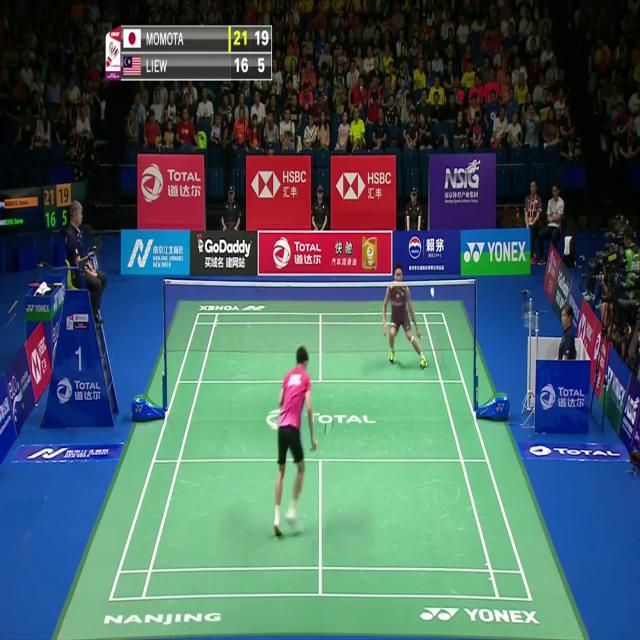Shuttlecock: (430, 287, 436, 298)
